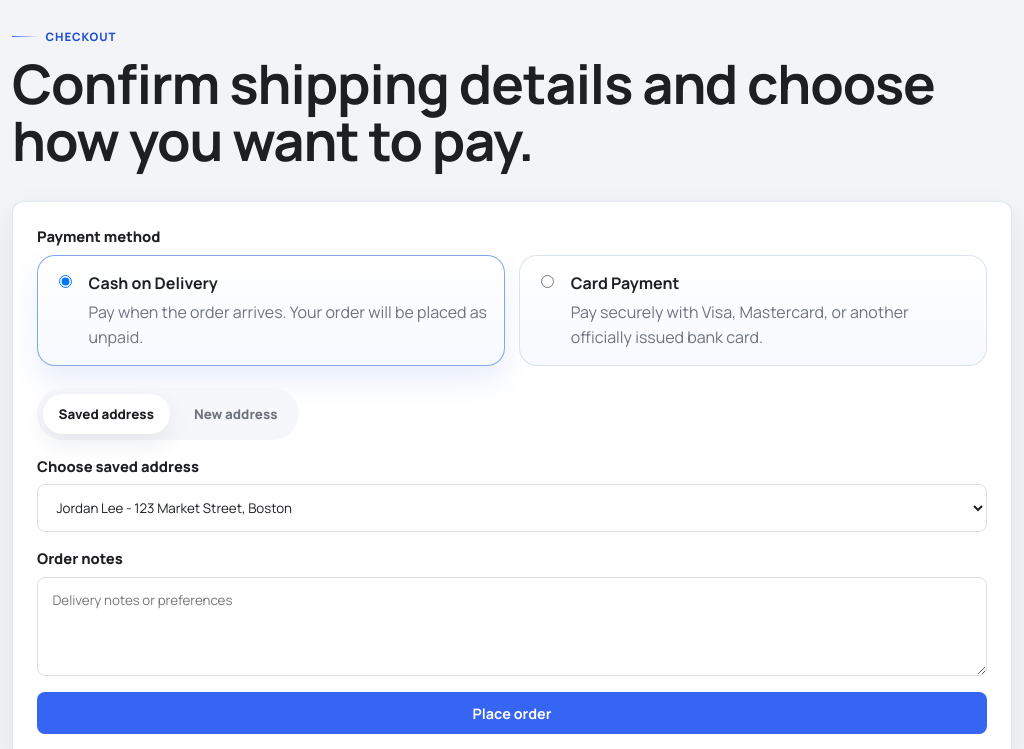
Test case: shows a declined mock card payment without creating an order
The image size is (1024, 749).
Click the radio button labelled "Card Payment".
click(548, 282)  # box x1=541 y1=275 x2=554 y2=288
(page scrolled)
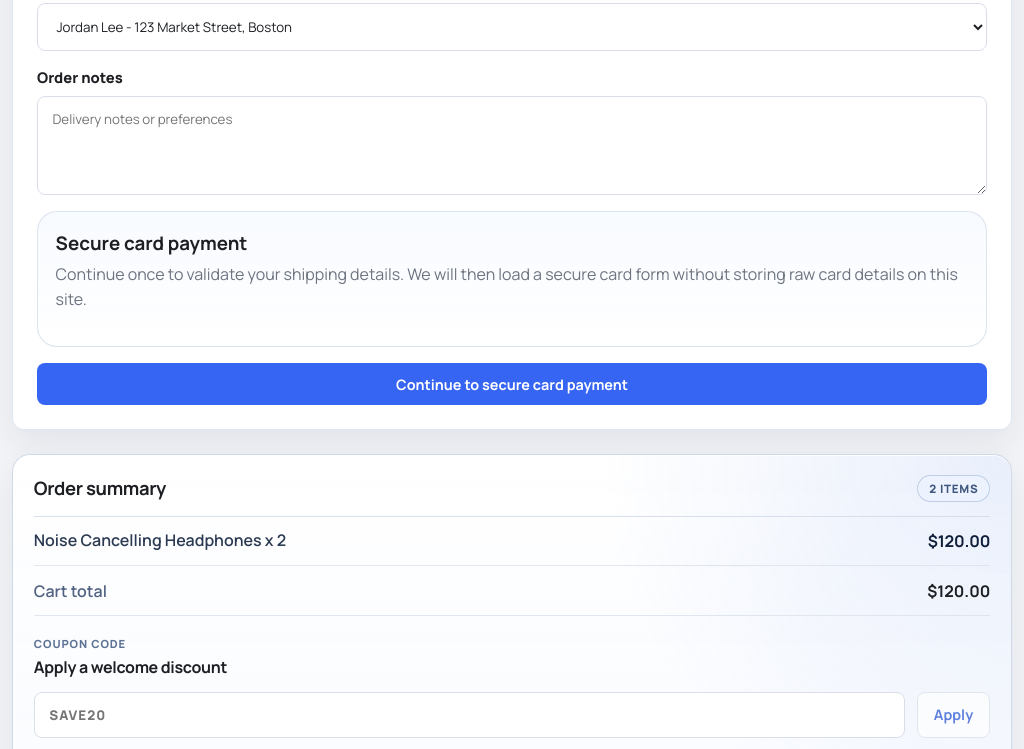
Click the button "Continue to secure card payment".
click(512, 384)  # box x1=37 y1=363 x2=987 y2=405
(page scrolled)
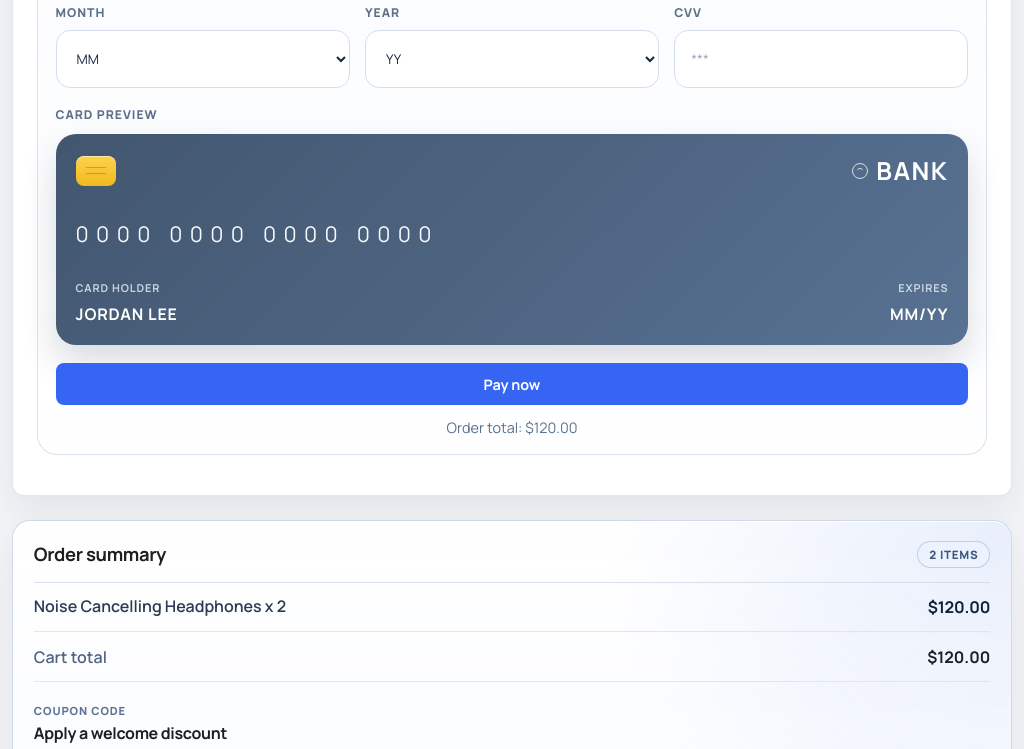
Click the button "Pay now".
click(512, 384)  # box x1=56 y1=363 x2=968 y2=405
(page scrolled)
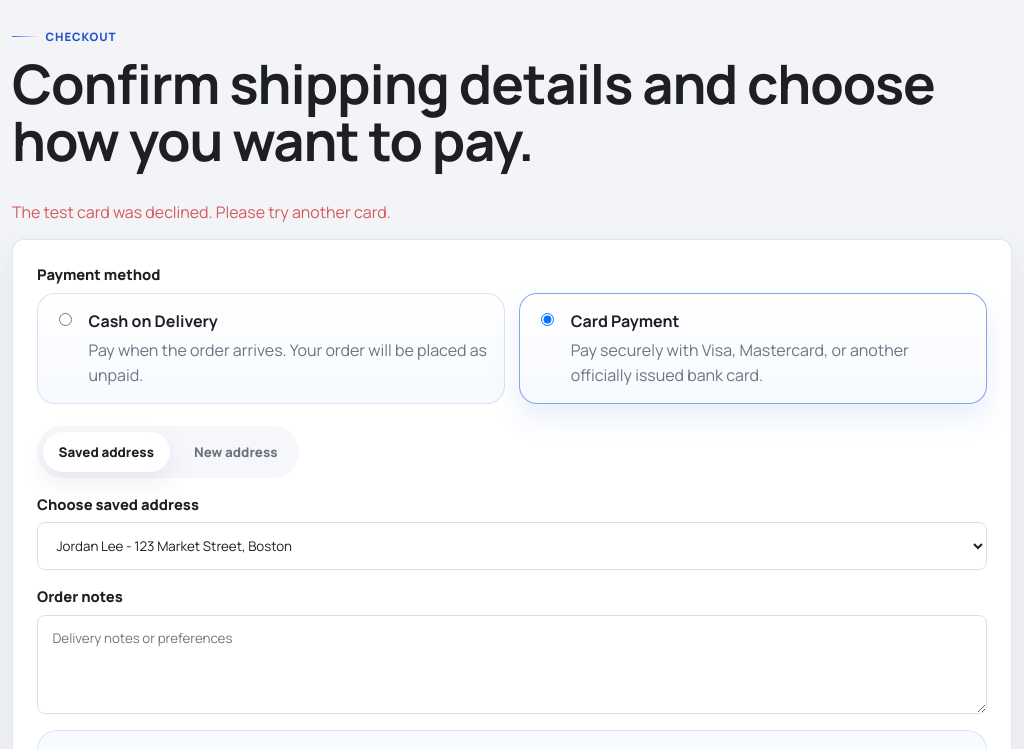
Expected: the text "The test card was declined. Please try another card." is shown, x1=12 y1=201 x2=391 y2=223
